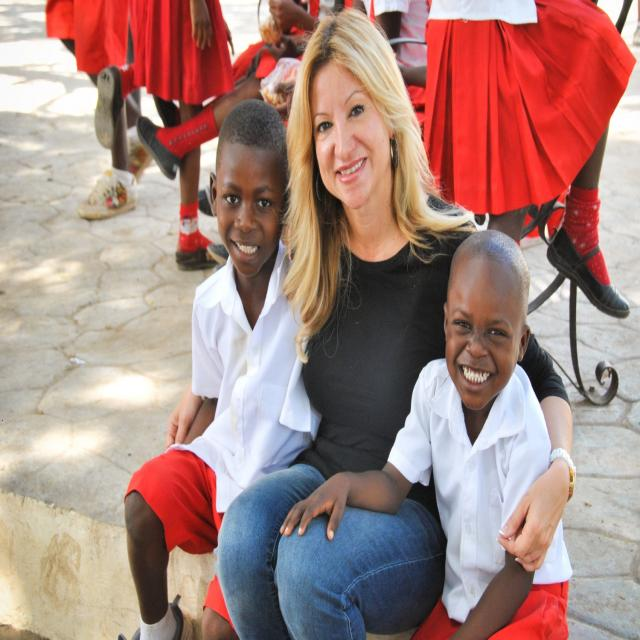body: (216, 6, 578, 639), (275, 225, 572, 639), (109, 96, 328, 639), (416, 0, 640, 318), (44, 0, 311, 105), (75, 106, 228, 269), (363, 1, 418, 108), (310, 1, 363, 31)
